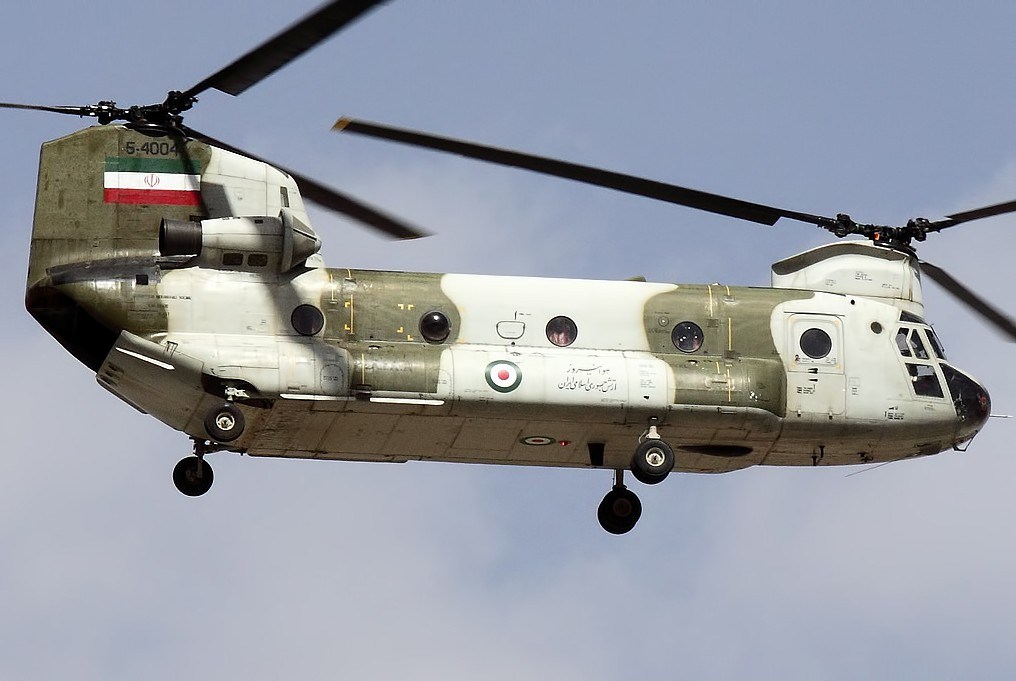chinook: (21, 93, 997, 531)
iran: (103, 156, 205, 211)
